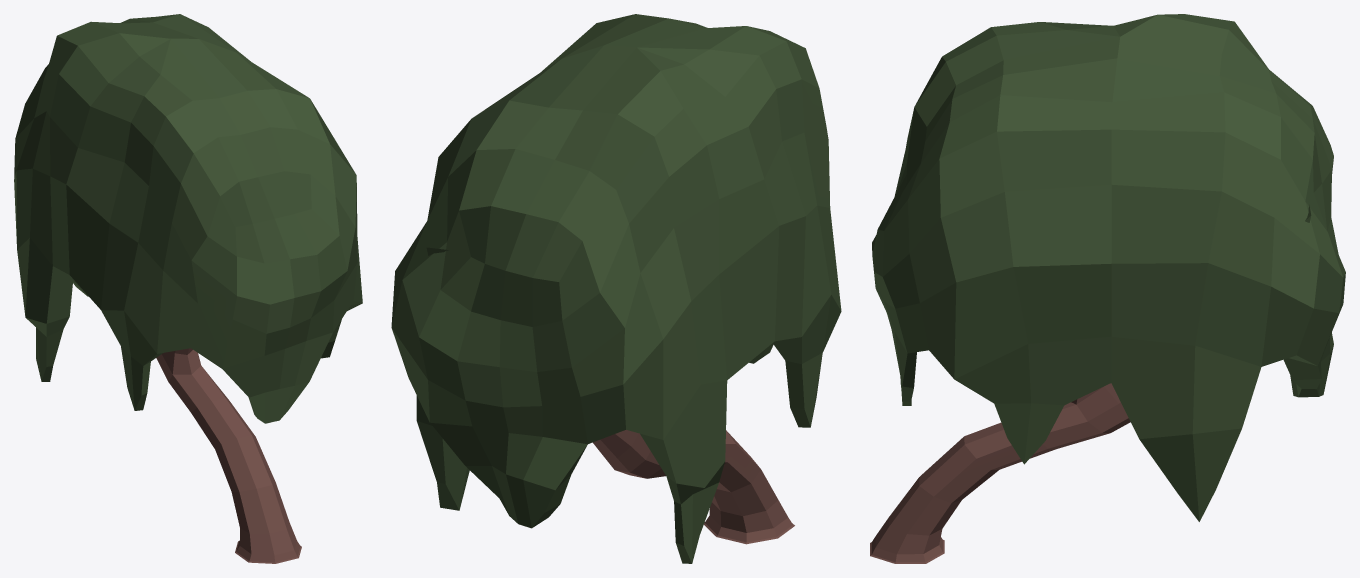
Rendered from willow_3.glb.
The picture shows the model from 3 angles, left to right: view 1: azimuth 30°, elevation 25°; view 2: azimuth 150°, elevation 25°; view 3: azimuth 270°, elevation 25°; orthographic projection. The views are drawn at different scales.
Parts seen in each view (by area): view 1: willow_3; view 2: willow_3; view 3: willow_3.
Part boxes in pixels (x1=…): willow_3: x1=14, y1=14, x2=362, y2=563; willow_3: x1=391, y1=14, x2=841, y2=563; willow_3: x1=870, y1=14, x2=1345, y2=563.
Bounding box in the file's own units: 1.32 × 2.35 × 1.98.
Materials: 1 (1 with a texture image).
